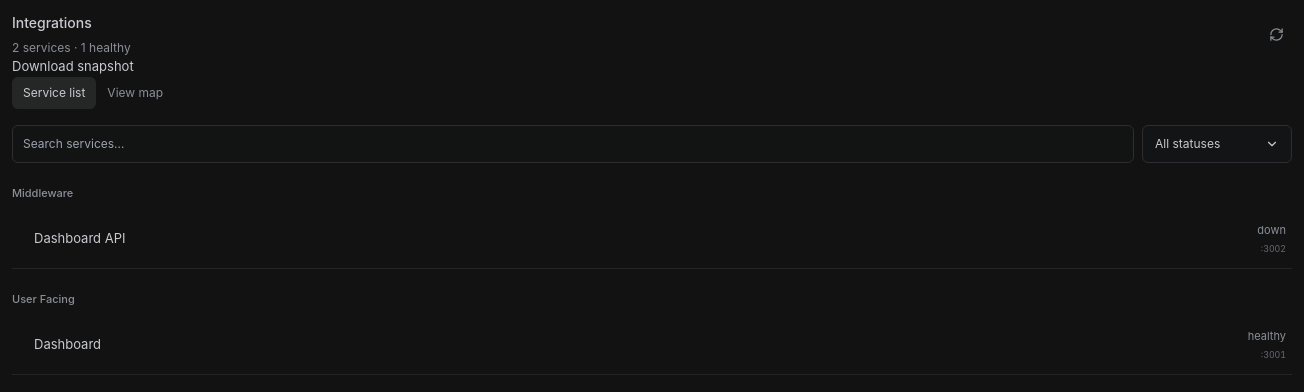
keeps the full snapshot and its capture time through filters and failed refreshes
The image size is (1304, 392).
Check: the link "Download snapshot" is shown, box [12, 58, 134, 74]
Type "no match" into the search field at (573,144), box [12, 124, 1134, 162]
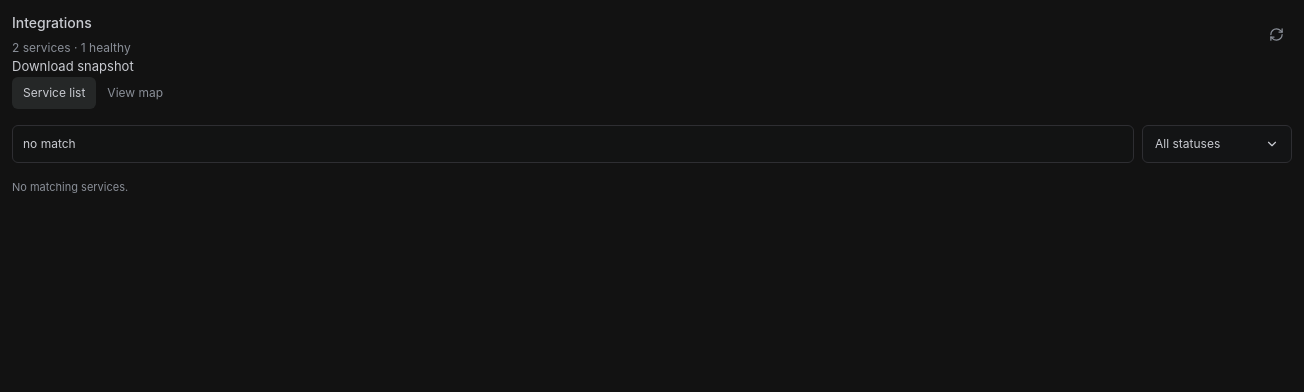
Click the button named "Refresh integrations" at (1276,34), box [1261, 19, 1292, 50]
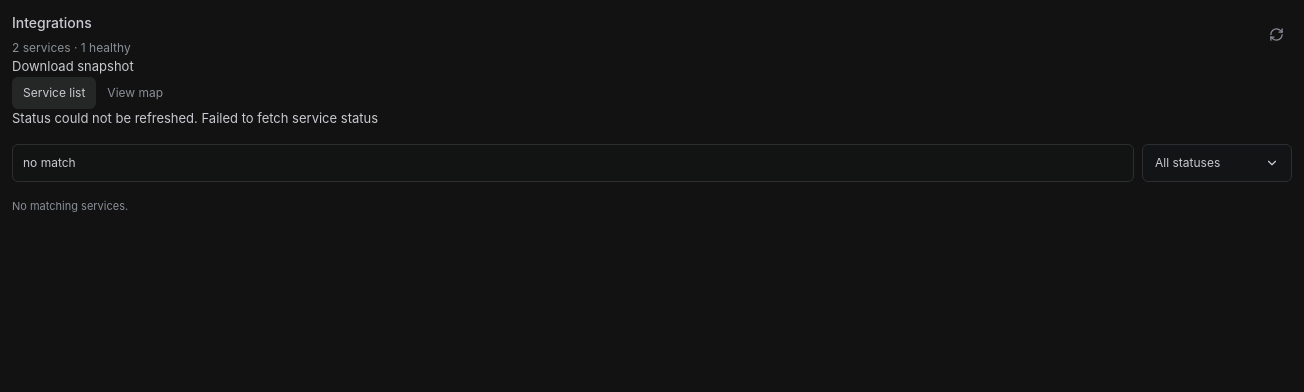
Check: the message "Status could not be refreshed. Failed to fetch service status" is shown, box [12, 110, 378, 126]
